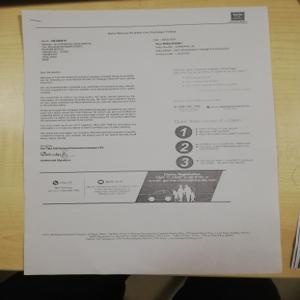text: (36, 68, 142, 141), (149, 33, 234, 55), (36, 141, 104, 163), (38, 37, 95, 62)
